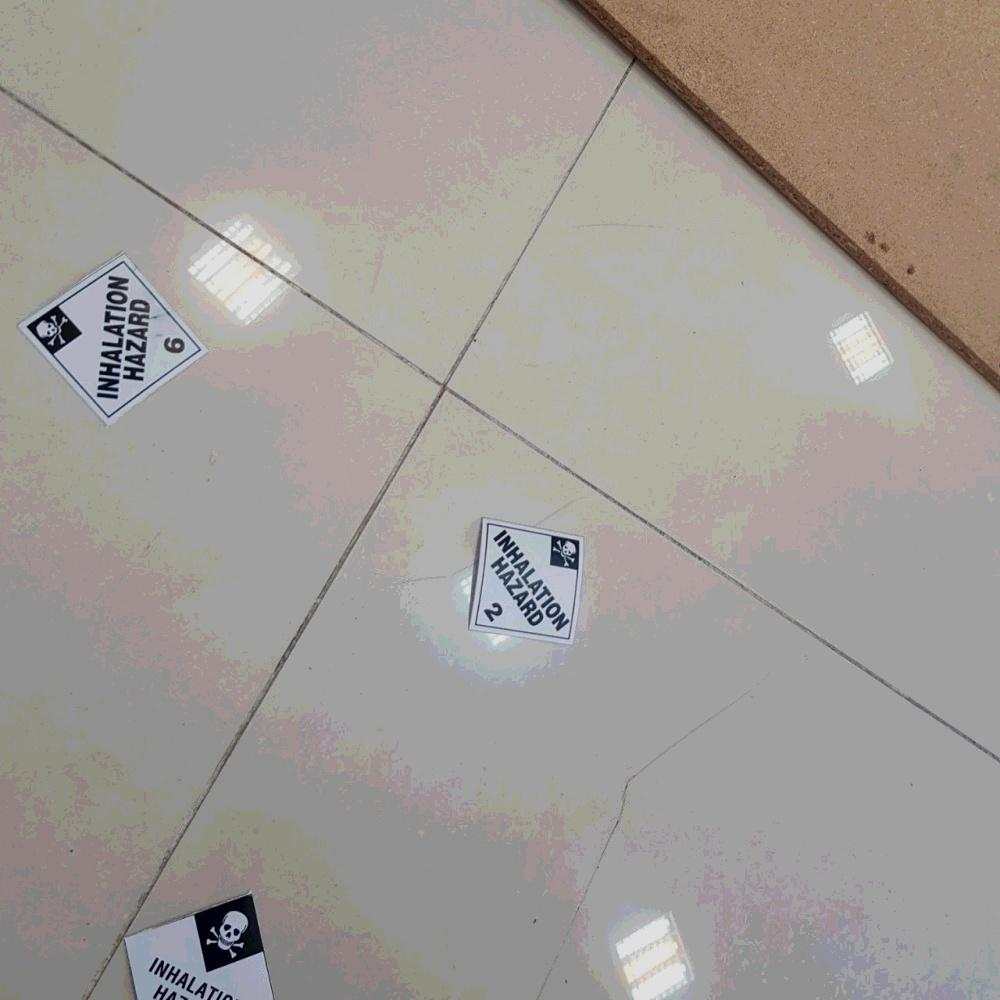poison: (22, 259, 199, 423), (126, 890, 275, 1000), (470, 522, 582, 640)
